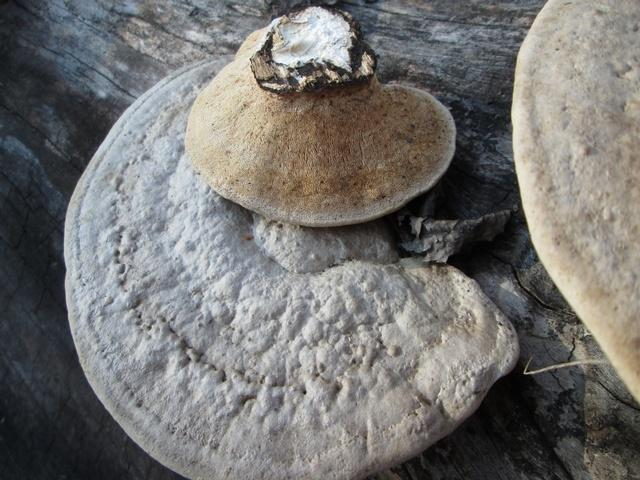Non-edible Mushroom: (54, 0, 517, 469), (503, 0, 640, 409)
